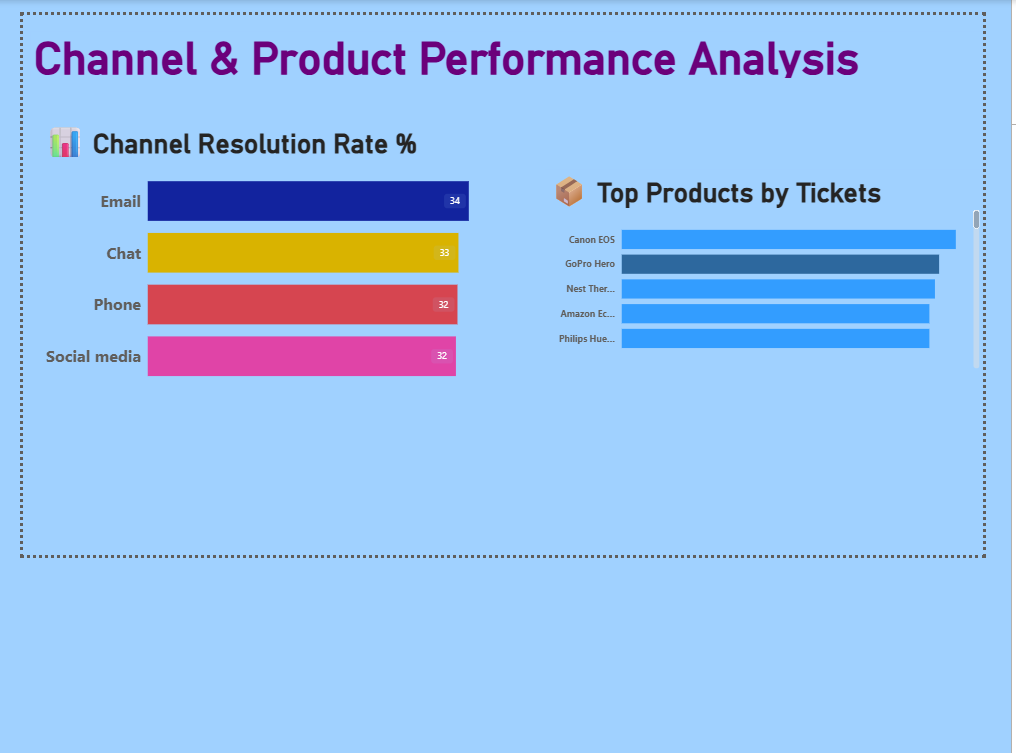

Layout of this report page (visuals, bound fields, positions):
{"tool":"powerbi","page":{"name":"Page 2","canvas":[1280,720],"ordinal":1},"visuals":[{"type":"textbox","title":"Channel & Product Performance Analysis","box":[10,22,1270,62],"z":0},{"type":"clusteredBarChart","title":"📊 Channel Resolution Rate %","fields":{"Category":["Cleaned_Data.Ticket Channel"],"Y":["Cleaned_Data.Resolution Rate %"]},"box":[24,140,672,376],"z":1},{"type":"clusteredBarChart","title":"📦 Top Products by Tickets","fields":{"Category":["Cleaned_Data.Product Purchased"],"Y":["Cleaned_Data.Total Tickets"]},"box":[696,206,584,270],"z":2}]}

Visuals, with their boxes on the page's 1280x720 design canvas (x1, y1, x2, y2). These are canvas units, not pixel positions in the 1016x753 screenshot, which may show the page scaled, cropped or inside an application window:
"Channel & Product Performance Analysis" textbox: BBox(10, 22, 1280, 84)
"📊 Channel Resolution Rate %" clusteredBarChart: BBox(24, 140, 696, 516)
"📦 Top Products by Tickets" clusteredBarChart: BBox(696, 206, 1280, 476)
